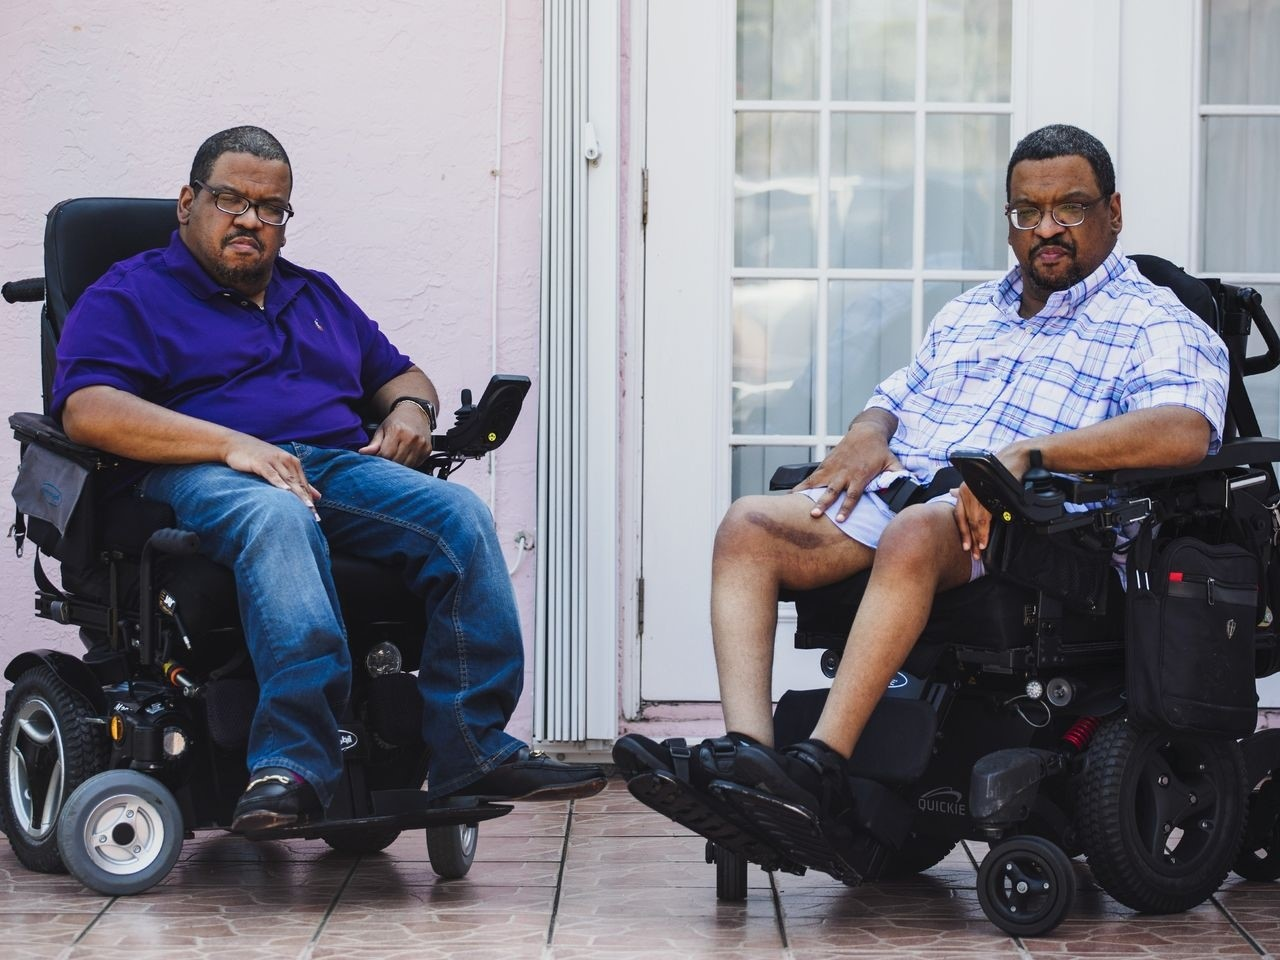face_no_mask: (1003, 125, 1122, 286), (188, 127, 297, 285)
